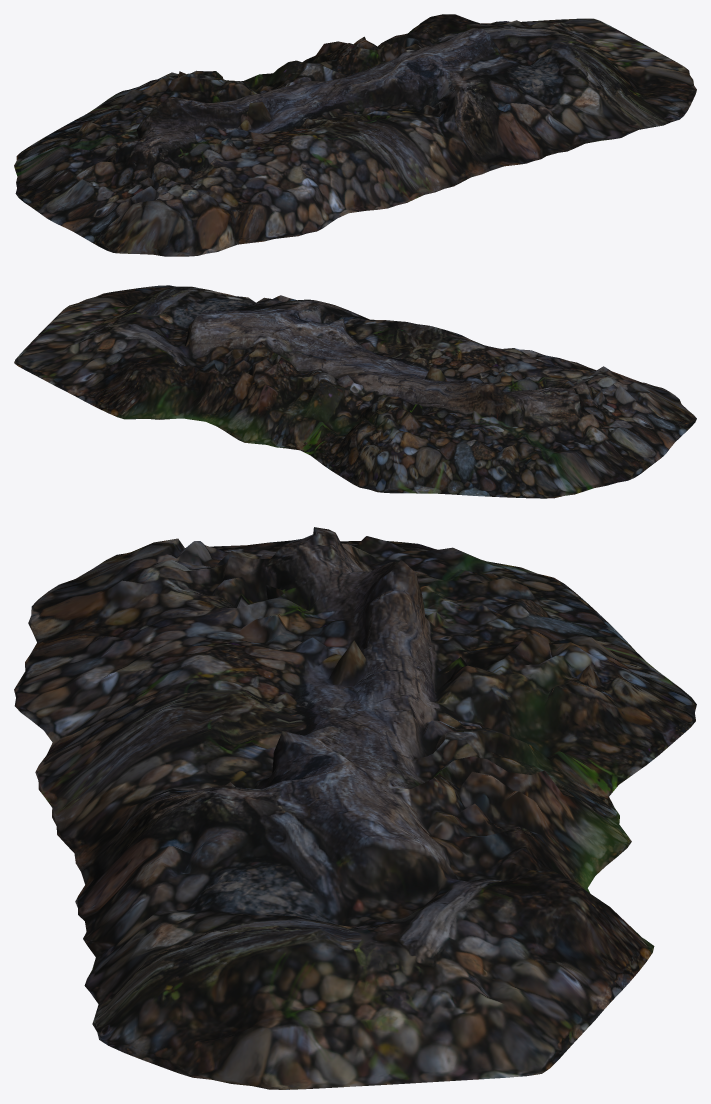
The model's file is beachwood0002.glb.
The picture shows the model from 3 angles, top to bottom: view 1: azimuth 30°, elevation 25°; view 2: azimuth 150°, elevation 25°; view 3: azimuth 270°, elevation 25°; orthographic projection. The views are drawn at different scales.
Parts seen in each view (by area): view 1: BeachWood0002; view 2: BeachWood0002; view 3: BeachWood0002.
Part boxes in pixels (x1,y1,x2,y2): BeachWood0002: (14, 14, 696, 256); BeachWood0002: (14, 285, 696, 498); BeachWood0002: (14, 527, 696, 1089).
Bounding box in the file's own units: 4.31 × 0.407 × 2.27.
Materials: 1 (1 with a texture image).
